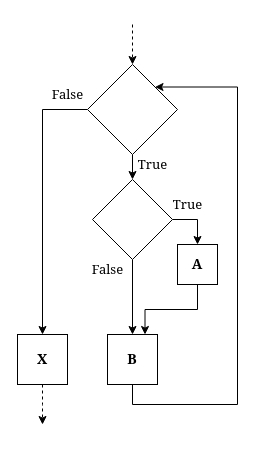
Some shapes in this 263 by 450 pixel diagram are drawn without their labels. Each missing label, with the centre of its shape:
IF condition: the point at 132,219
LOOP condition: the point at 132,109
